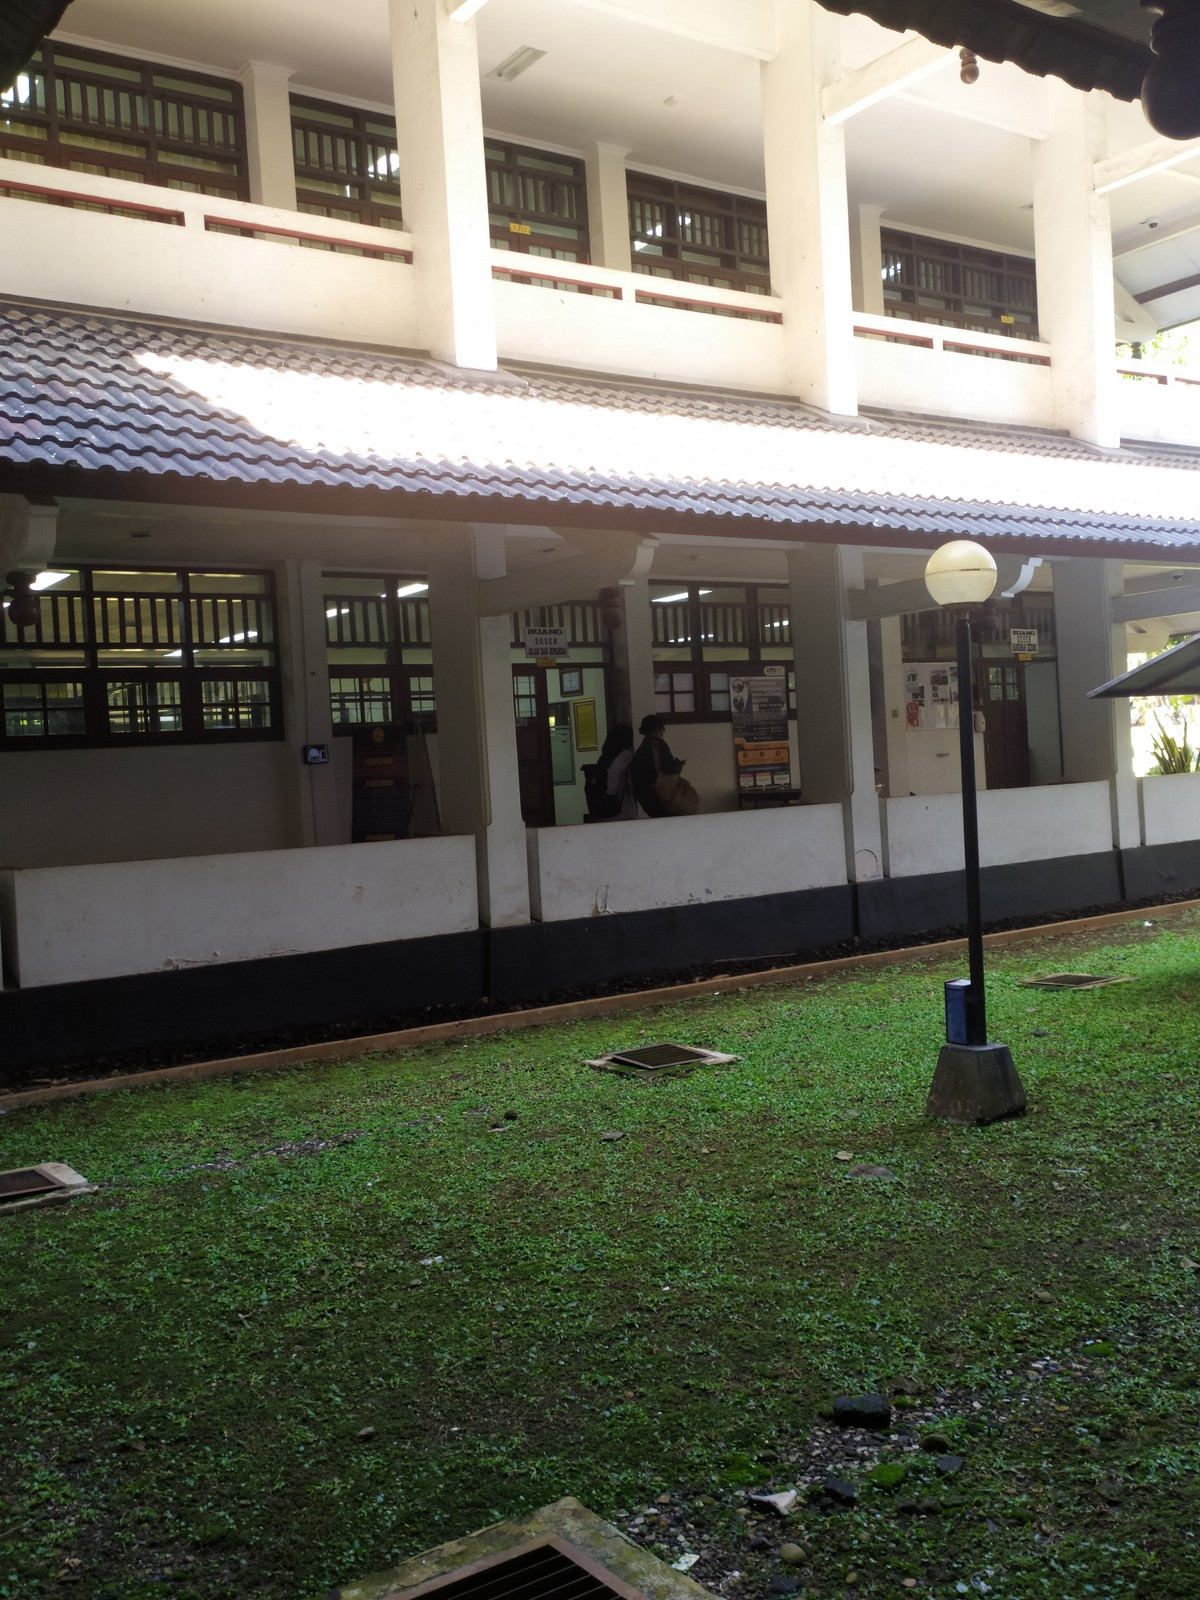concrete beam: (818, 50, 932, 132), (469, 559, 604, 620), (1084, 142, 1176, 203), (841, 580, 933, 627)
concrete column: (426, 553, 546, 950), (384, 8, 505, 369), (758, 60, 872, 420), (788, 558, 892, 916), (1026, 144, 1124, 455), (1051, 572, 1147, 869), (275, 559, 342, 840), (239, 55, 301, 208), (584, 135, 642, 270)
